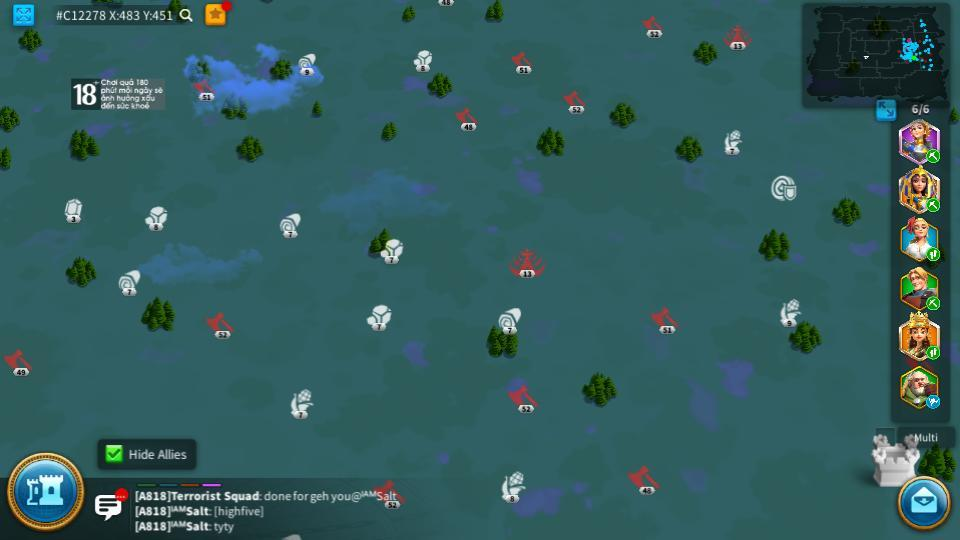gem-z-out: (62, 198, 83, 221), (283, 533, 303, 539)
march_idle: (925, 396, 942, 408)
march_marching: (925, 197, 941, 212), (925, 345, 941, 359), (925, 248, 942, 260), (925, 150, 941, 162), (925, 297, 942, 308)
